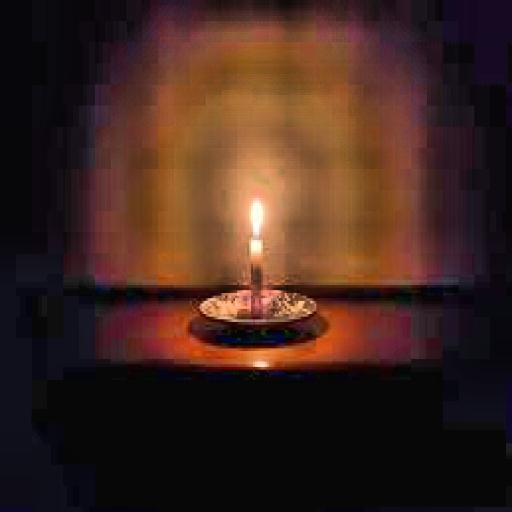fire: (243, 188, 275, 246)
